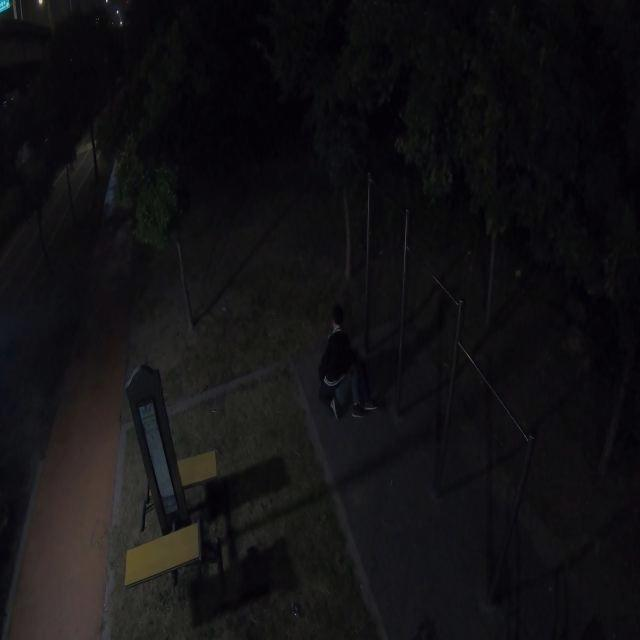fight: (313, 306, 379, 421)
